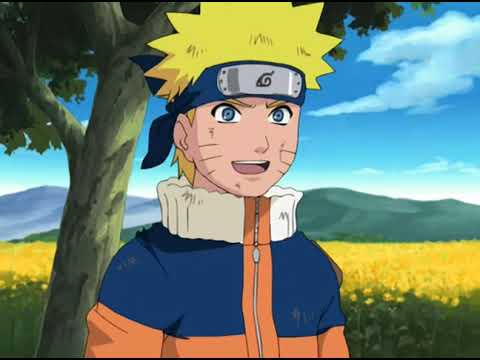naruto: (171, 56, 310, 196)
